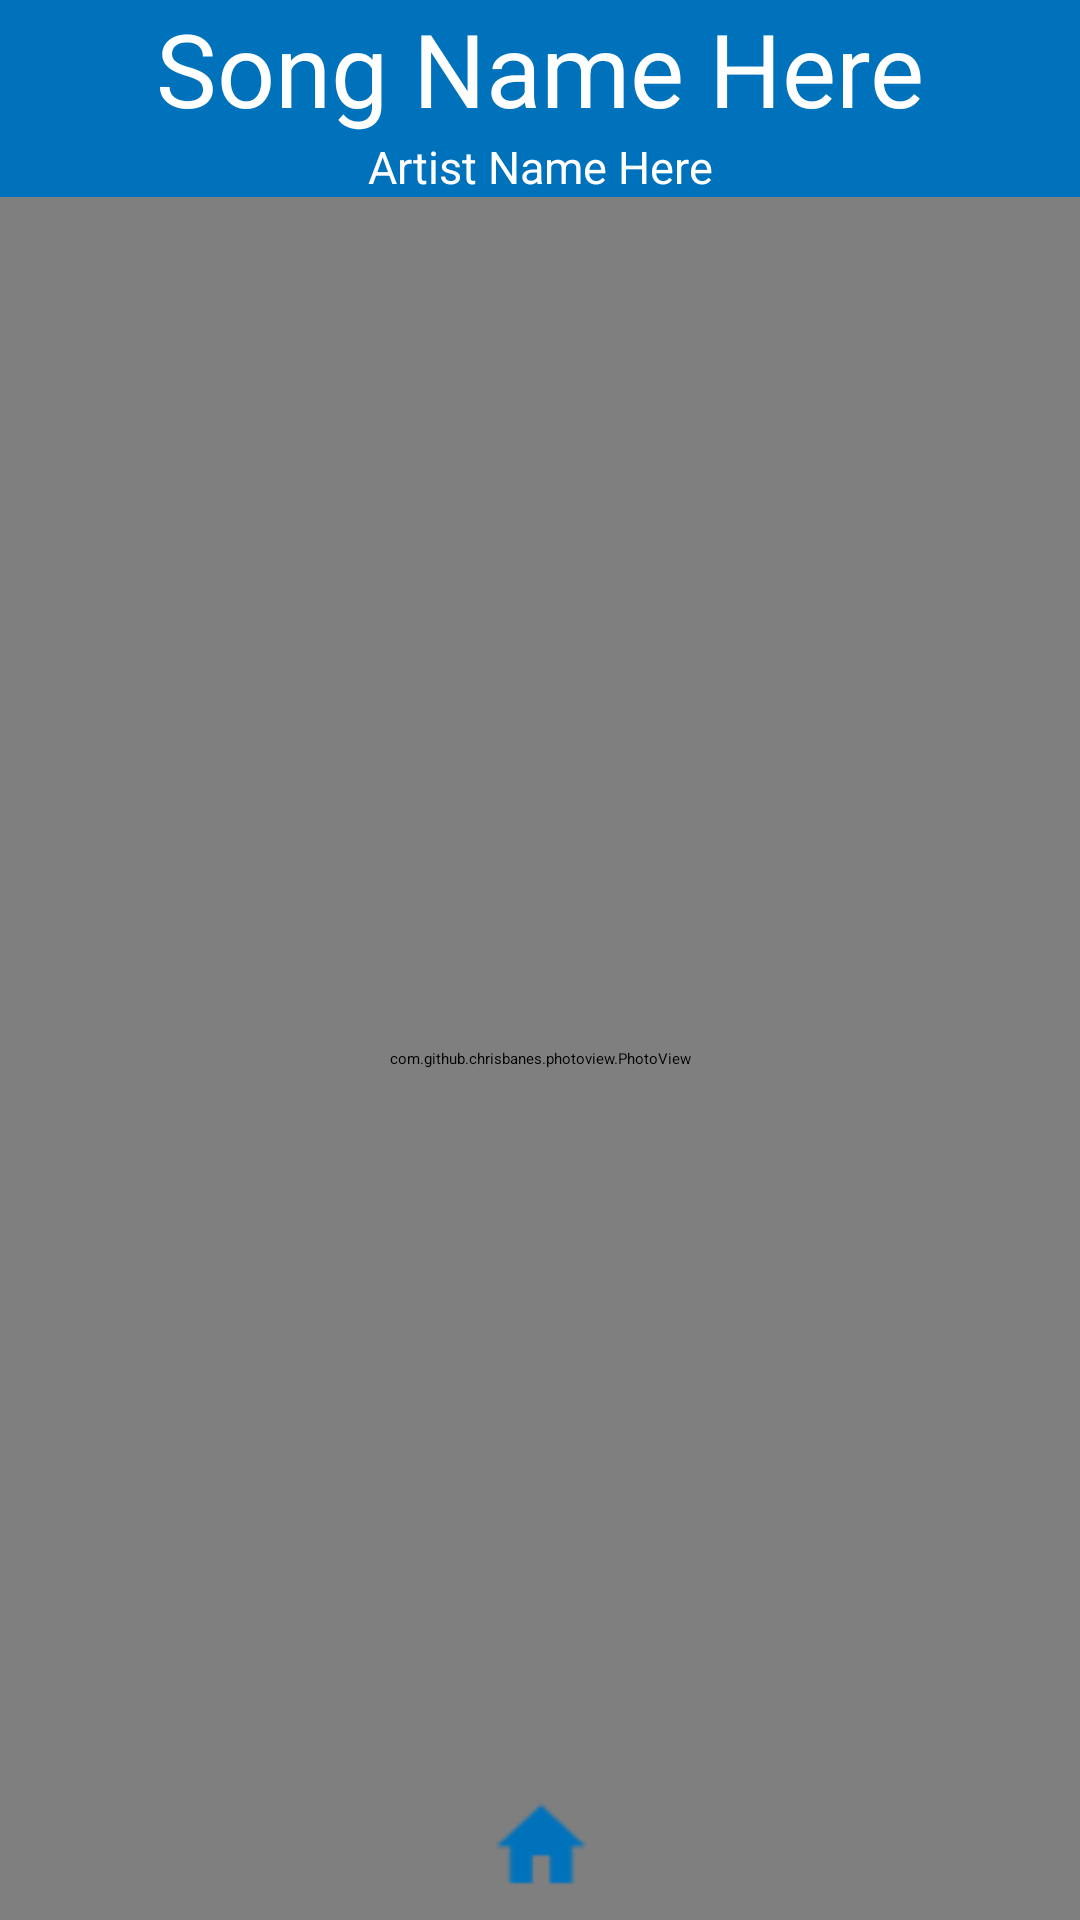

Named icons in this screenshot (1080 x 1920) and their bounding boxes, Rect(x1, y1, x2, y2):
home: Rect(497, 1805, 585, 1884)
